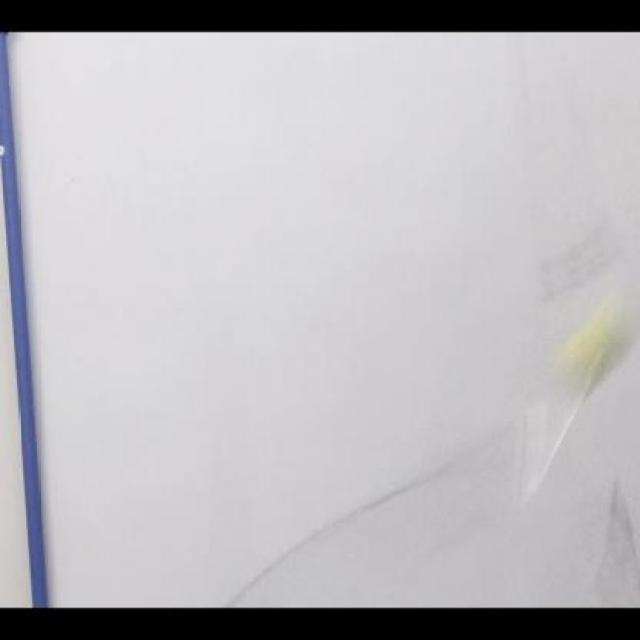baseball: (557, 282, 634, 396)
